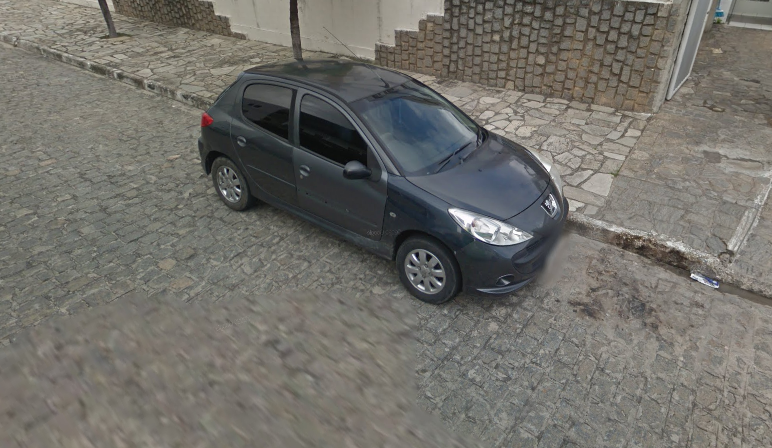car: (194, 24, 574, 308)
